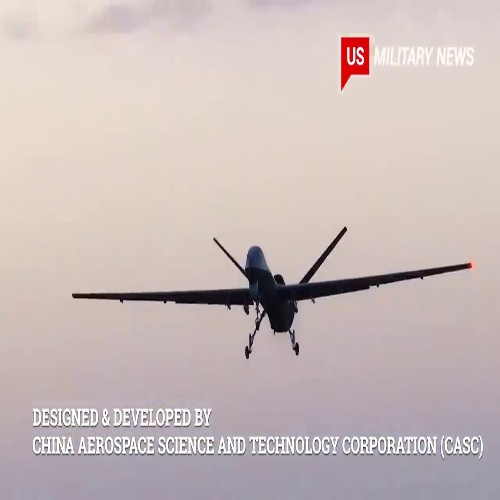uav45: (68, 227, 474, 358)
